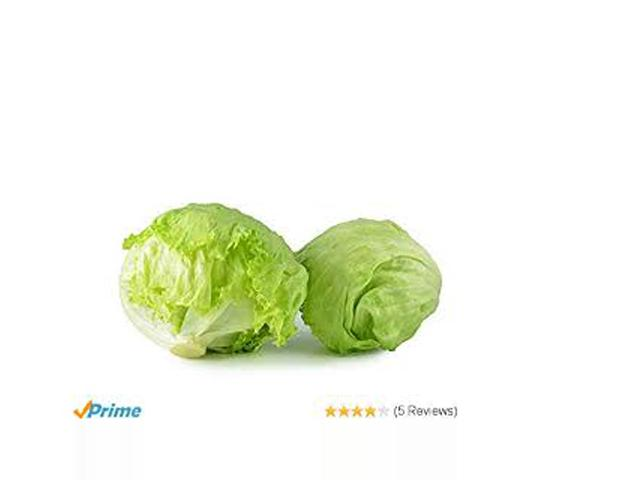lettuce: (253, 216, 446, 384)
